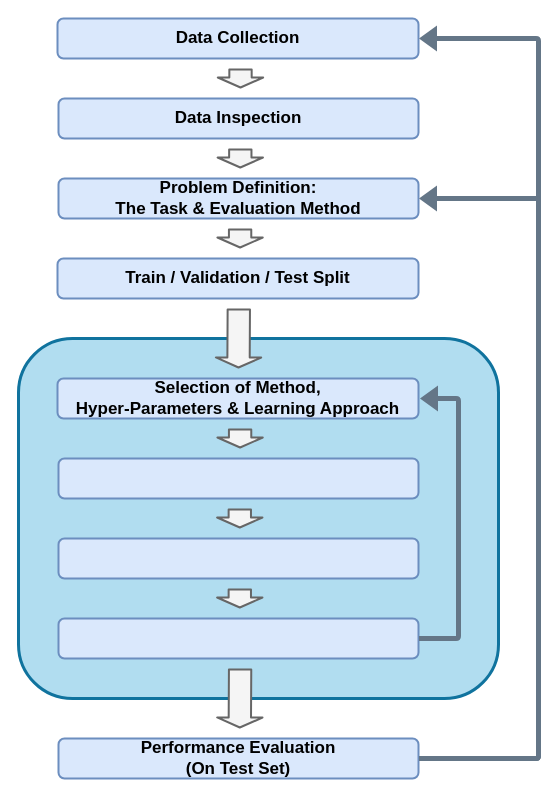
This 558x796 diagram has some shape labels left out. Here are the shapes that lost their labels. From the top down, the centre of each, then its label:
[238,478]: Data Pre-Processing & Feature Selection
[238,558]: Model Fitting - Learning
[238,638]: Validation & Anlysis (On Validation Set)
